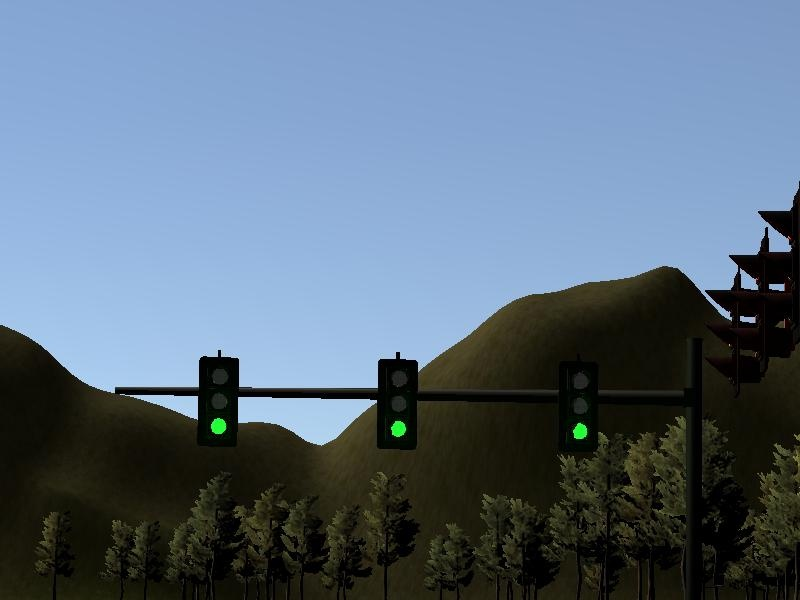GREEN: (198, 356, 238, 446), (376, 358, 416, 448), (558, 361, 598, 451)
